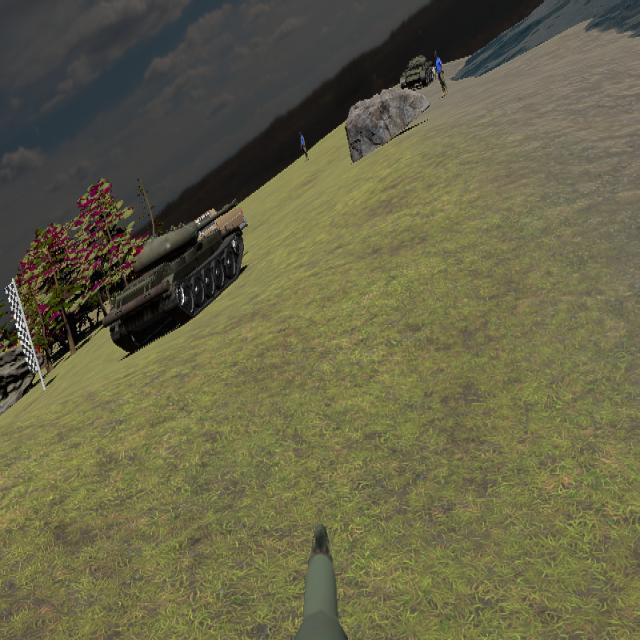Human: (433, 50, 449, 99)
Tank: (104, 202, 250, 352), (401, 54, 434, 91)
